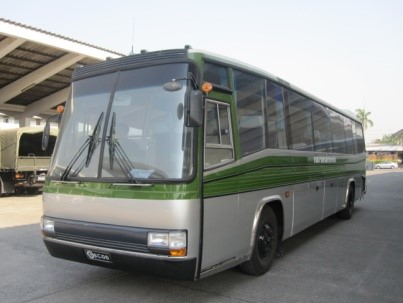bus: (41, 46, 369, 284)
